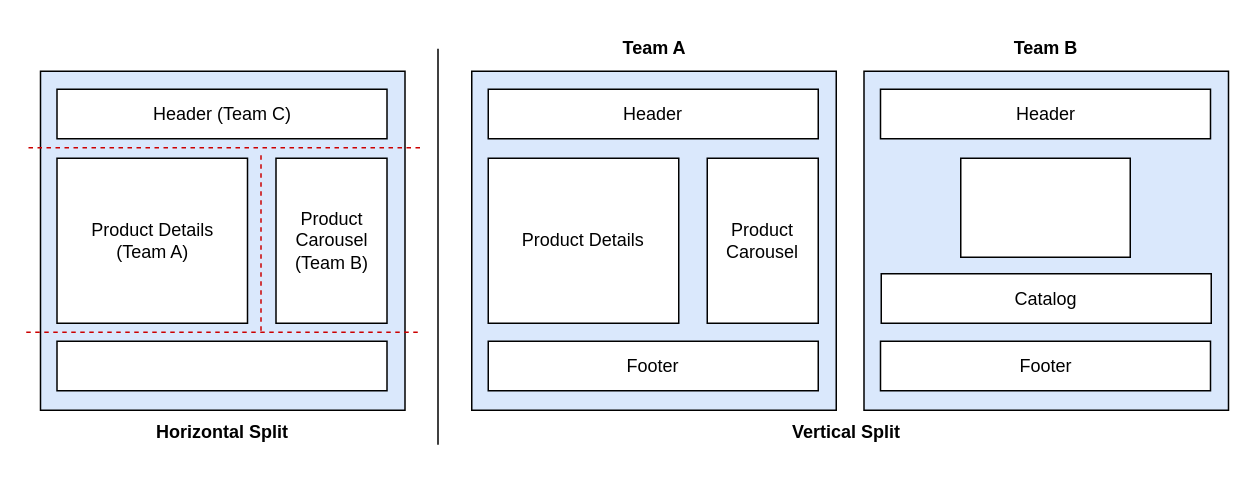
This 1256x480 diagram has some shape labels left out. The shapes that lost their labels are listed below. From the top down, each one's box as (x1, y1, x2, y2) in pixels, then its label:
(959, 157, 1130, 257): Video Player
(56, 340, 387, 391): Footer (Team C)
